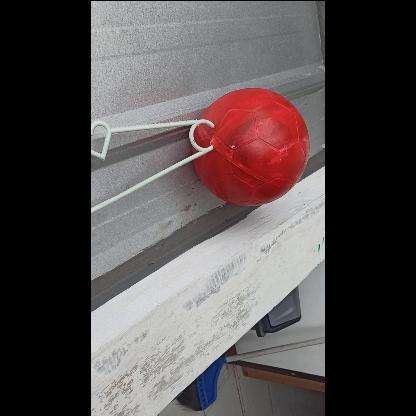red_ball: (192, 85, 310, 203)
